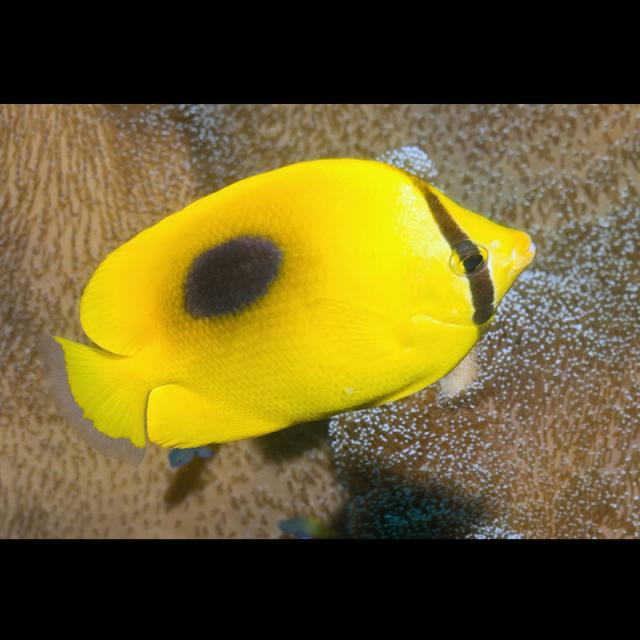ButterflyFish: (57, 158, 535, 454)
